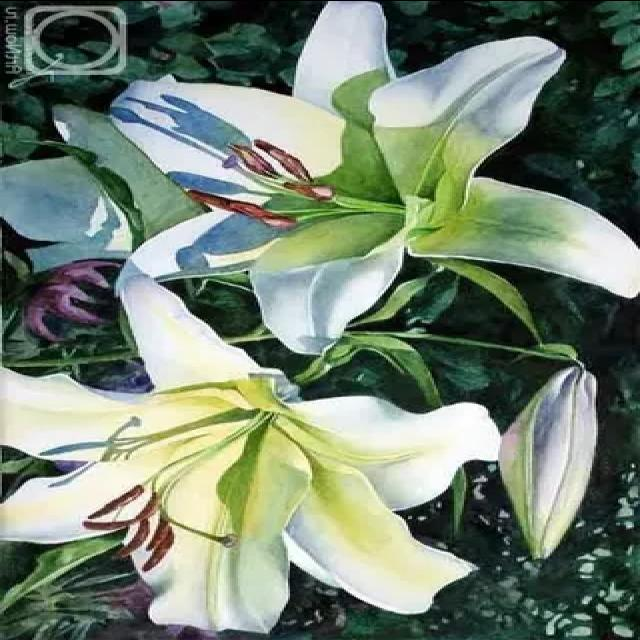lily: (10, 272, 500, 632)
